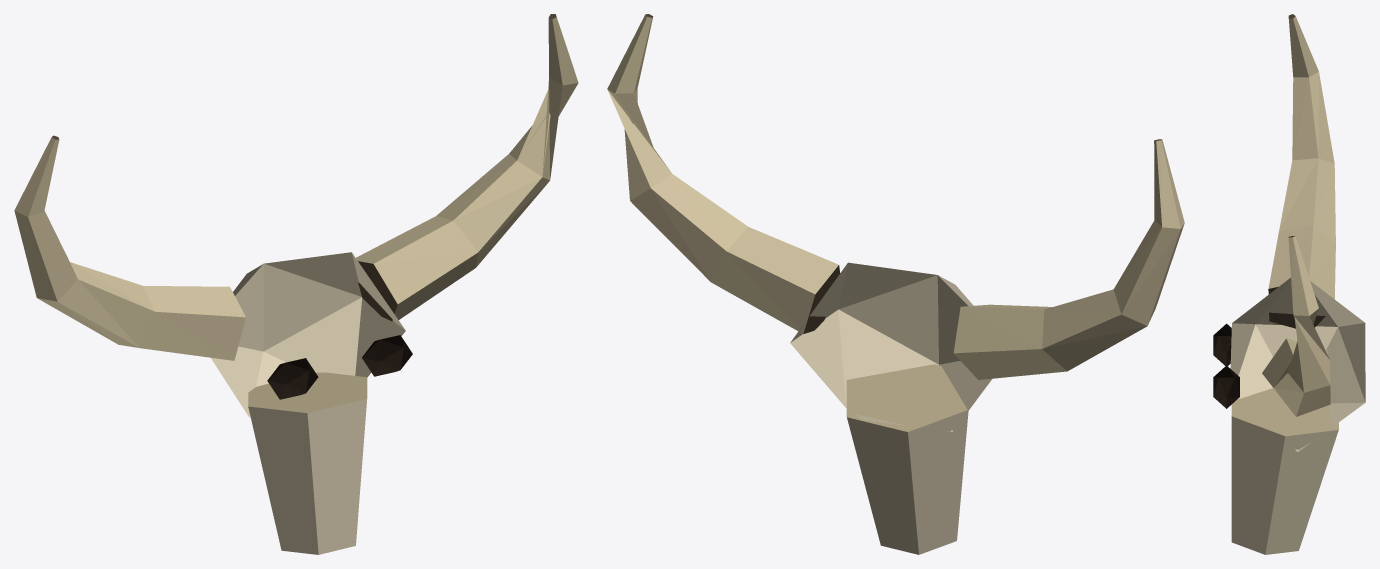
File: dk_bullskull.glb
3 renders of one model, left to right at view 1: azimuth 30°, elevation 25°; view 2: azimuth 150°, elevation 25°; view 3: azimuth 270°, elevation 25°, orthographic. The views are drawn at different scales.
Visible parts, largest first — view 1: dk_bullskull; view 2: dk_bullskull; view 3: dk_bullskull.
Part boxes in pixels (x1,y1,x2,y2): dk_bullskull: (14,14,578,554); dk_bullskull: (607,14,1184,554); dk_bullskull: (1213,14,1365,554).
Size of the model in its own units: 4.51 by 3.53 by 1.17.
1 material, 1 textured.
